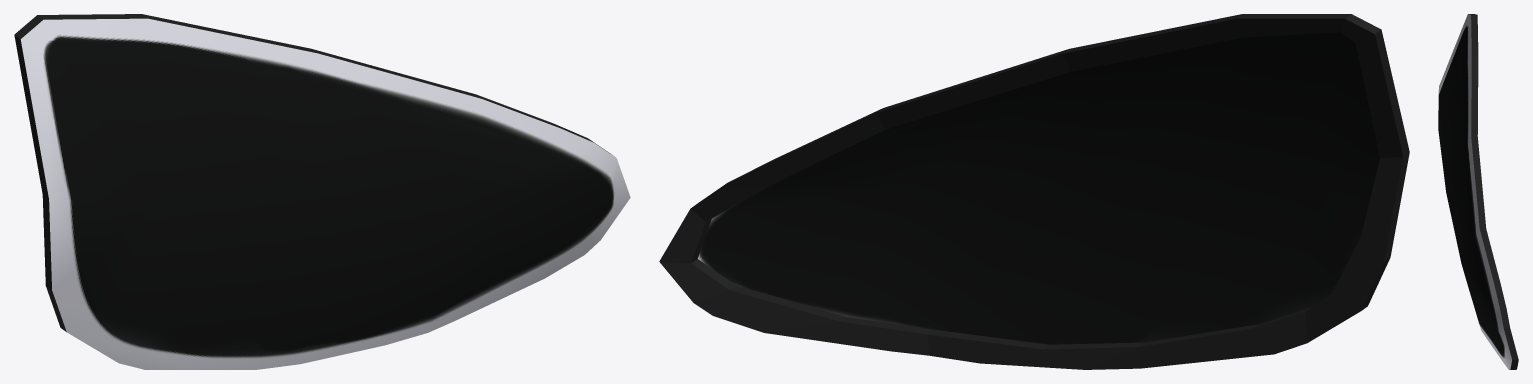
Rendered from DoorR.FBX.
3 views of the same model, side by side, from view 1: azimuth 30°, elevation 25°; view 2: azimuth 150°, elevation 25°; view 3: azimuth 270°, elevation 25° (orthographic). The views are drawn at different scales.
Parts seen in each view (by area): view 1: WindowR, DoorR; view 2: WindowR, DoorR; view 3: WindowR, DoorR.
Part boxes in pixels (left/top/right/bottom): WindowR: left=44, top=37, right=613, bottom=351; DoorR: left=14, top=14, right=630, bottom=369; WindowR: left=698, top=32, right=1379, bottom=344; DoorR: left=659, top=14, right=1409, bottom=369; WindowR: left=1438, top=26, right=1504, bottom=355; DoorR: left=1438, top=14, right=1518, bottom=369.
Bounding box in the file's own units: 228 × 139 × 46.95.
